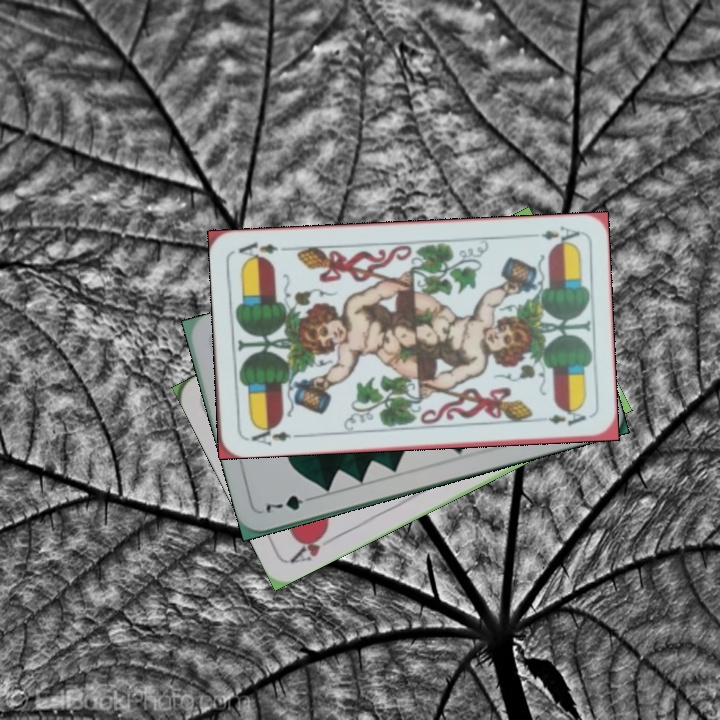EA: (243, 421, 302, 448), (537, 222, 582, 248)
G7: (259, 491, 319, 515)
HA: (287, 524, 341, 566)
